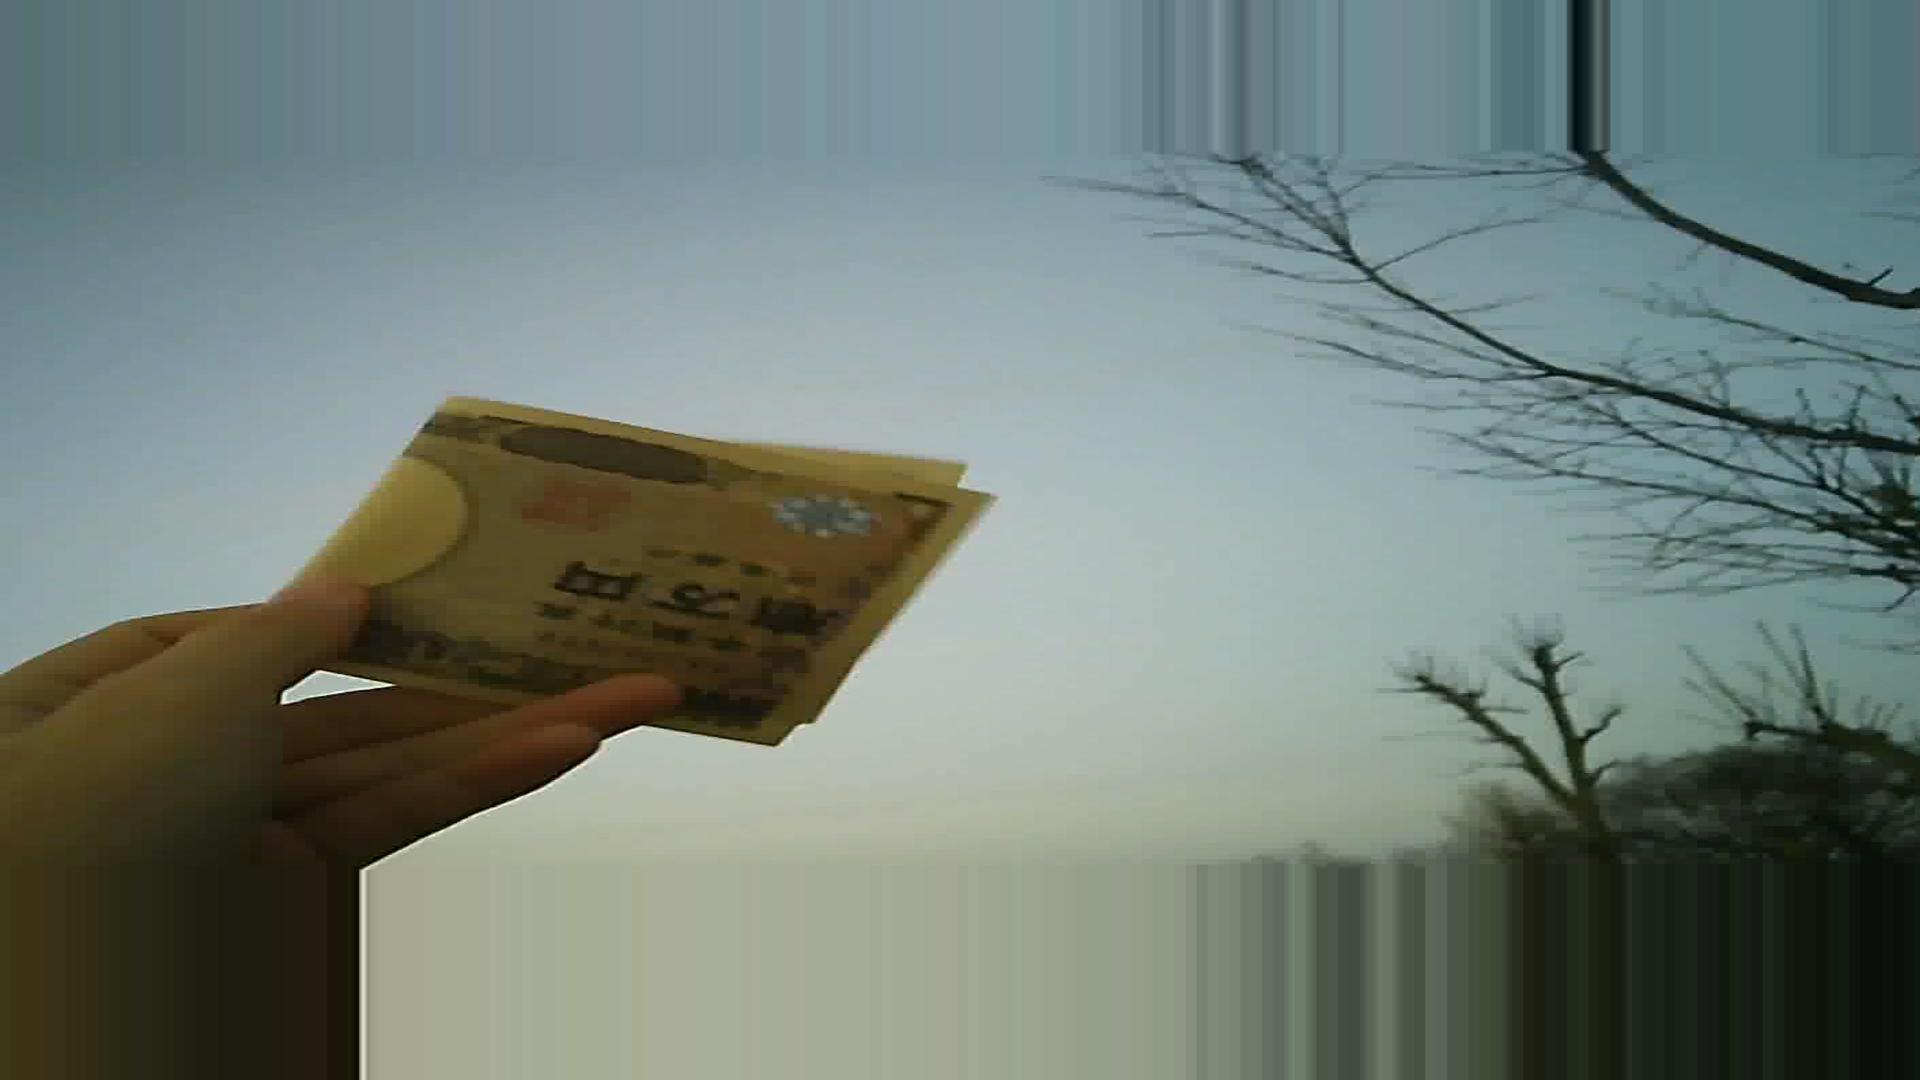10,000 Yen: (287, 378, 939, 746)
